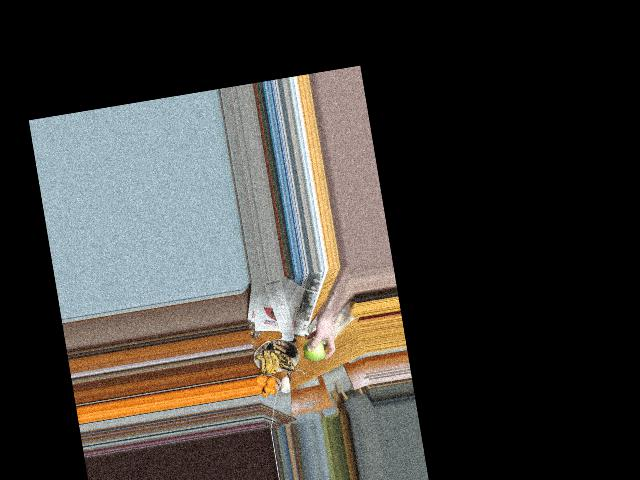apple: (301, 335, 325, 362)
